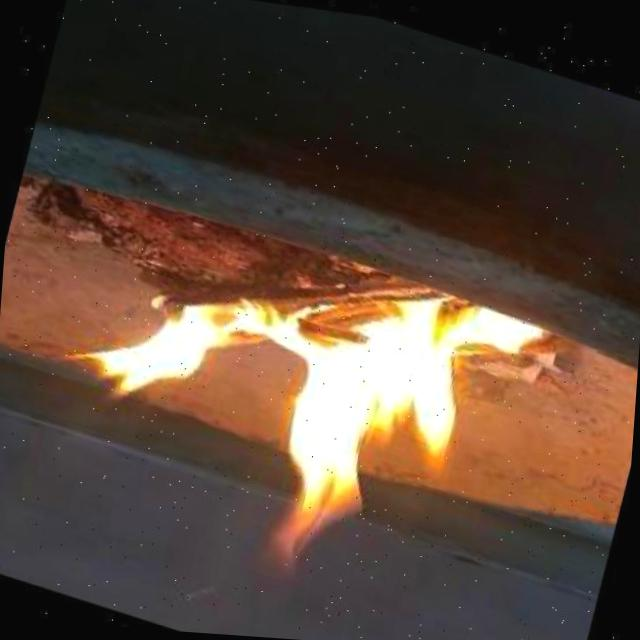fire: (68, 250, 549, 582)
